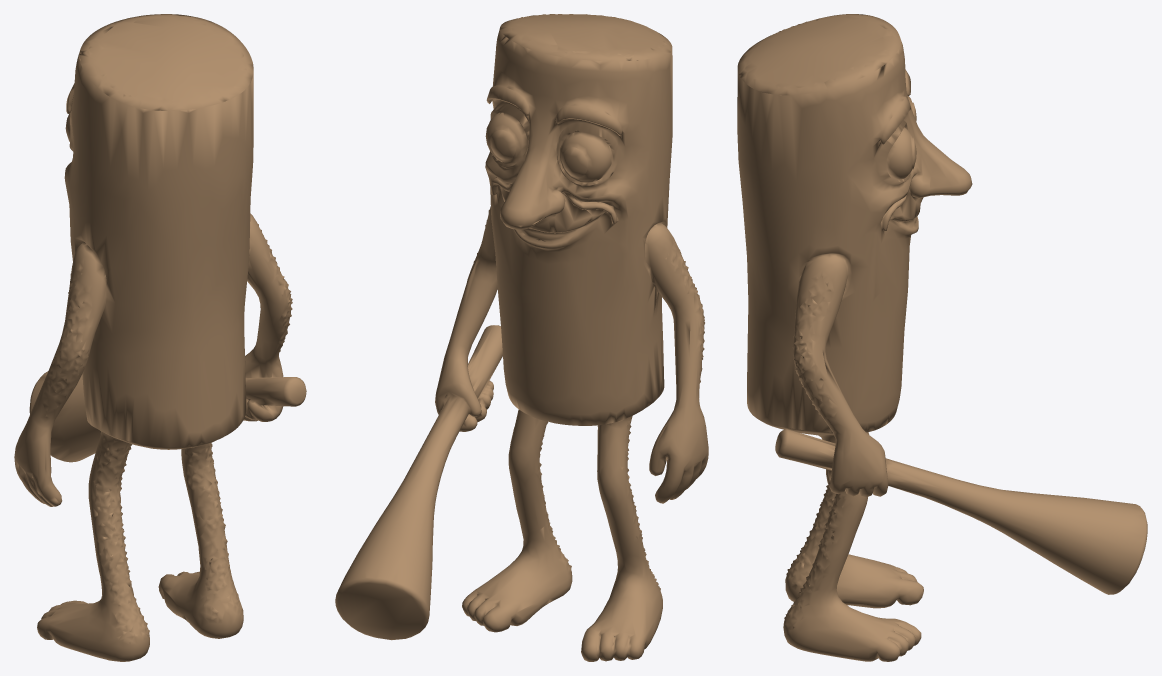
The model's file is tuntun.glb.
The picture shows the model from 3 angles, left to right: view 1: azimuth 30°, elevation 25°; view 2: azimuth 150°, elevation 25°; view 3: azimuth 270°, elevation 25°; orthographic projection.
Parts seen in each view (by area): view 1: Tuntun; view 2: Tuntun; view 3: Tuntun.
Boxes of the visible parts, x1,y1,x2,y2 form: Tuntun: [14, 14, 306, 661]; Tuntun: [335, 14, 708, 661]; Tuntun: [737, 14, 1147, 661].
Size of the model in its own units: 0.8839 by 1.97 by 1.24.
